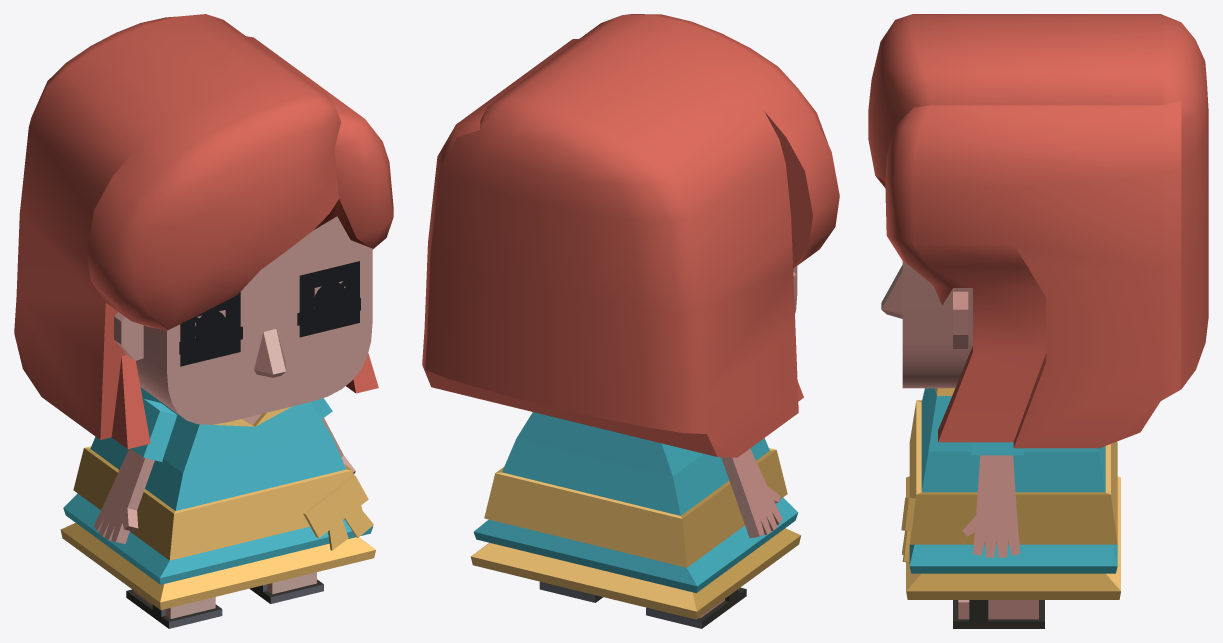
3 views of the same model, side by side, from view 1: azimuth 30°, elevation 25°; view 2: azimuth 150°, elevation 25°; view 3: azimuth 270°, elevation 25° (orthographic). The views are drawn at different scales.
Parts seen in each view (by area): view 1: Ch_241_Head, Ch_241, Ch_241_Arm_L, Ch_241_Eye_03_R, Ch_241_Eye_03_L, Ch_241_Leg_L, Ch_241_Eye_02, Ch_241_Leg_R, Ch_241_Eye_01; view 2: Ch_241_Head, Ch_241, Ch_241_Arm_L, Ch_241_Leg_L; view 3: Ch_241_Head, Ch_241, Ch_241_Arm_R, Ch_241_Leg_R.
Part boxes in pixels (left/top/right/bottom): Ch_241_Head: left=14, top=14, right=393, bottom=448; Ch_241: left=60, top=387, right=375, bottom=609; Ch_241_Arm_L: left=94, top=399, right=177, bottom=543; Ch_241_Eye_03_R: left=299, top=261, right=359, bottom=337; Ch_241_Eye_03_L: left=180, top=292, right=240, bottom=366; Ch_241_Leg_L: left=126, top=589, right=222, bottom=628; Ch_241_Eye_02: left=179, top=298, right=360, bottom=354; Ch_241_Leg_R: left=250, top=572, right=323, bottom=603; Ch_241_Eye_01: left=195, top=280, right=345, bottom=341; Ch_241_Head: left=422, top=14, right=839, bottom=457; Ch_241: left=470, top=412, right=800, bottom=619; Ch_241_Arm_L: left=721, top=448, right=782, bottom=538; Ch_241_Leg_L: left=646, top=587, right=746, bottom=628; Ch_241_Head: left=868, top=14, right=1208, bottom=448; Ch_241: left=901, top=388, right=1120, bottom=599; Ch_241_Arm_R: left=962, top=442, right=1024, bottom=557; Ch_241_Leg_R: left=953, top=600, right=1044, bottom=628.
Bounding box in the file's own units: 6.68 × 11.47 × 6.35.
